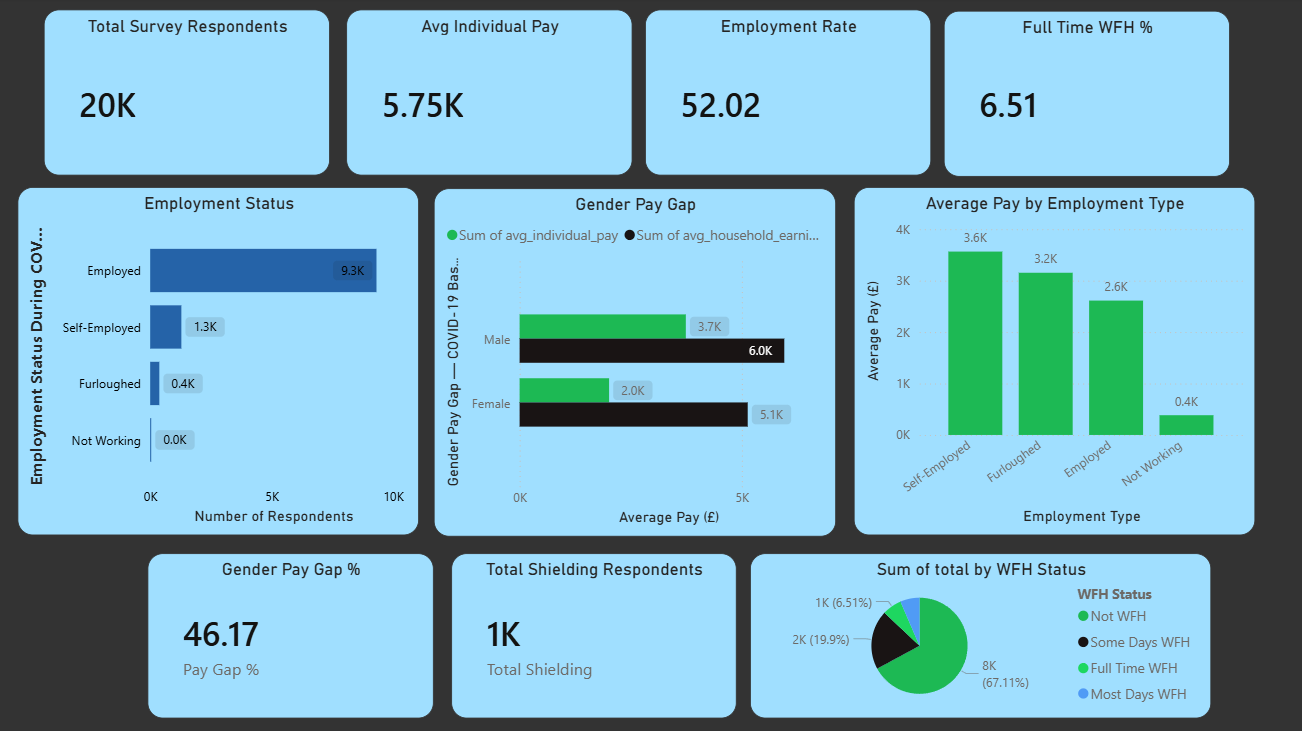

Layout of this report page (visuals, bound fields, positions):
{"tool":"powerbi","page":{"name":"Page 1","canvas":[1280,720],"ordinal":0},"visuals":[{"type":"barChart","title":"Employment Status","fields":{"Category":["que1.Employment Status"],"Y":["Sum(que1.total_respondents)"]},"box":[17.1,185.9,393,341.2],"z":0},{"type":"pieChart","fields":{"Category":["que2.WFH Status"],"Y":["Sum(data-1776895738795.total)"]},"box":[733.7,543.9,451.2,161.4],"z":1000},{"type":"clusteredBarChart","title":"Gender Pay Gap","fields":{"Category":["que6.gender"],"Y":["Sum(que6.avg_individual_pay)","Sum(que6.avg_household_earnings)"]},"box":[424.3,187.1,393.8,341.2],"z":2000},{"type":"cardVisual","title":"Total Survey Respondents","fields":{"Data":["Sum(que1.total_respondents)"]},"box":[42.6,12.7,280,162.6],"z":3000},{"type":"cardVisual","title":"Avg Individual Pay","fields":{"Data":["Sum(que6.avg_individual_pay)"]},"box":[338.5,12.7,280,162.6],"z":4000},{"type":"cardVisual","title":"Employment Rate","fields":{"Data":["que1.Employment Rate"]},"box":[630.7,12.7,280,162.6],"z":5000},{"type":"cardVisual","title":"Full Time WFH %","fields":{"Data":["que2.Full Time WFH"]},"box":[923,13.9,280,162],"z":6000},{"type":"cardVisual","title":"Gender Pay Gap %","fields":{"Data":["que6.Pay Gap %"]},"box":[144.3,543.9,280,161.4],"z":7000},{"type":"clusteredColumnChart","title":"Average Pay by Employment Type","fields":{"Category":["que3.Employment Type"],"Y":["Sum(que3.avg_pay)"]},"box":[835.2,185.9,392.5,341.2],"z":8000},{"type":"cardVisual","title":"Total Shielding Respondents","fields":{"Data":["que8.Total Shielding"]},"box":[441.4,543.9,278.8,161.4],"z":9000}]}

Visuals, with their boxes in screenshot pixels (x1, y1, x2, y2), scaled from the page's 1280x720 canvas onto the 1302x731 screenshot:
"Employment Status" barChart: [x1=17, y1=189, x2=417, y2=535]
pieChart - que2.WFH Status x Sum(data-1776895738795.total): [x1=746, y1=552, x2=1205, y2=716]
"Gender Pay Gap" clusteredBarChart: [x1=432, y1=190, x2=832, y2=536]
"Total Survey Respondents" cardVisual: [x1=43, y1=13, x2=328, y2=178]
"Avg Individual Pay" cardVisual: [x1=344, y1=13, x2=629, y2=178]
"Employment Rate" cardVisual: [x1=642, y1=13, x2=926, y2=178]
"Full Time WFH %" cardVisual: [x1=939, y1=14, x2=1224, y2=179]
"Gender Pay Gap %" cardVisual: [x1=147, y1=552, x2=432, y2=716]
"Average Pay by Employment Type" clusteredColumnChart: [x1=850, y1=189, x2=1249, y2=535]
"Total Shielding Respondents" cardVisual: [x1=449, y1=552, x2=733, y2=716]
